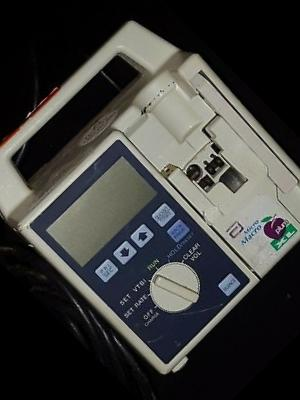plumxl1: (3, 18, 300, 373)
